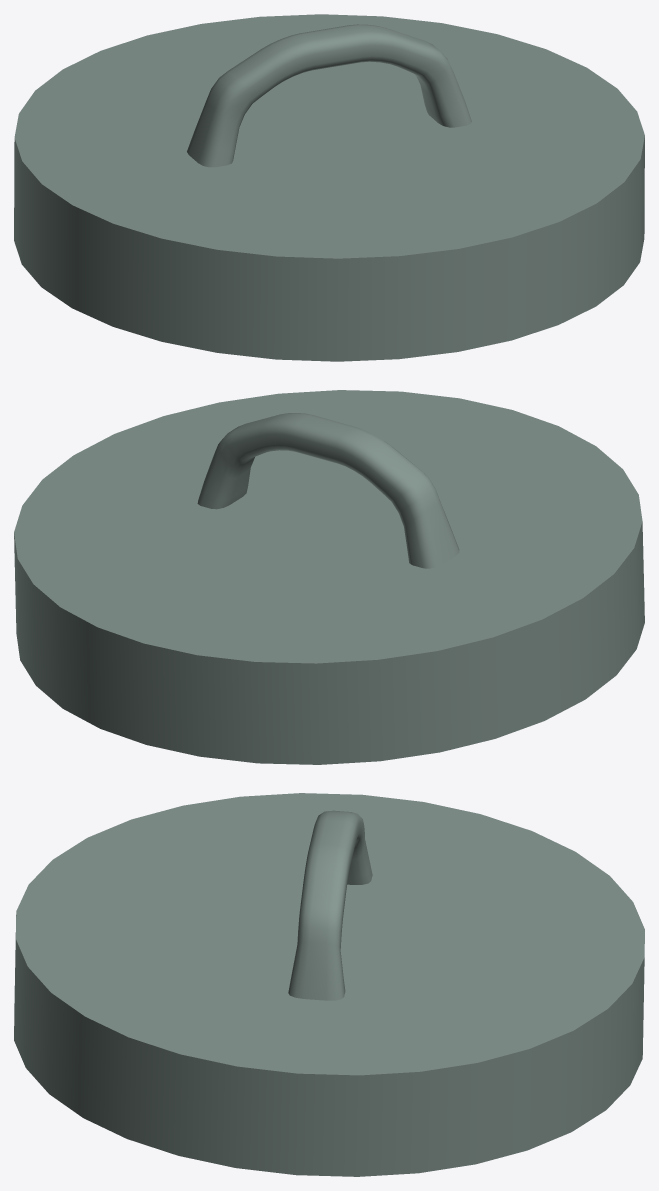
File: bin_block_lid.glb
The picture shows the model from 3 angles, top to bottom: view 1: azimuth 30°, elevation 25°; view 2: azimuth 150°, elevation 25°; view 3: azimuth 270°, elevation 25°; orthographic projection.
Parts seen in each view (by area): view 1: kapak; view 2: kapak; view 3: kapak.
Boxes of the visible parts, left/top/right/bottom form: kapak: left=14, top=14, right=644, bottom=361; kapak: left=14, top=390, right=644, bottom=764; kapak: left=14, top=793, right=644, bottom=1176.
Bounding box in the file's own units: 0.9175 × 0.3474 × 0.9178.
1 material, 1 textured.
